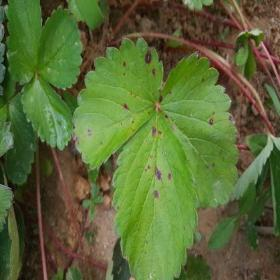Leaf Spot: (111, 107, 200, 279), (160, 51, 240, 210), (71, 35, 163, 172)
